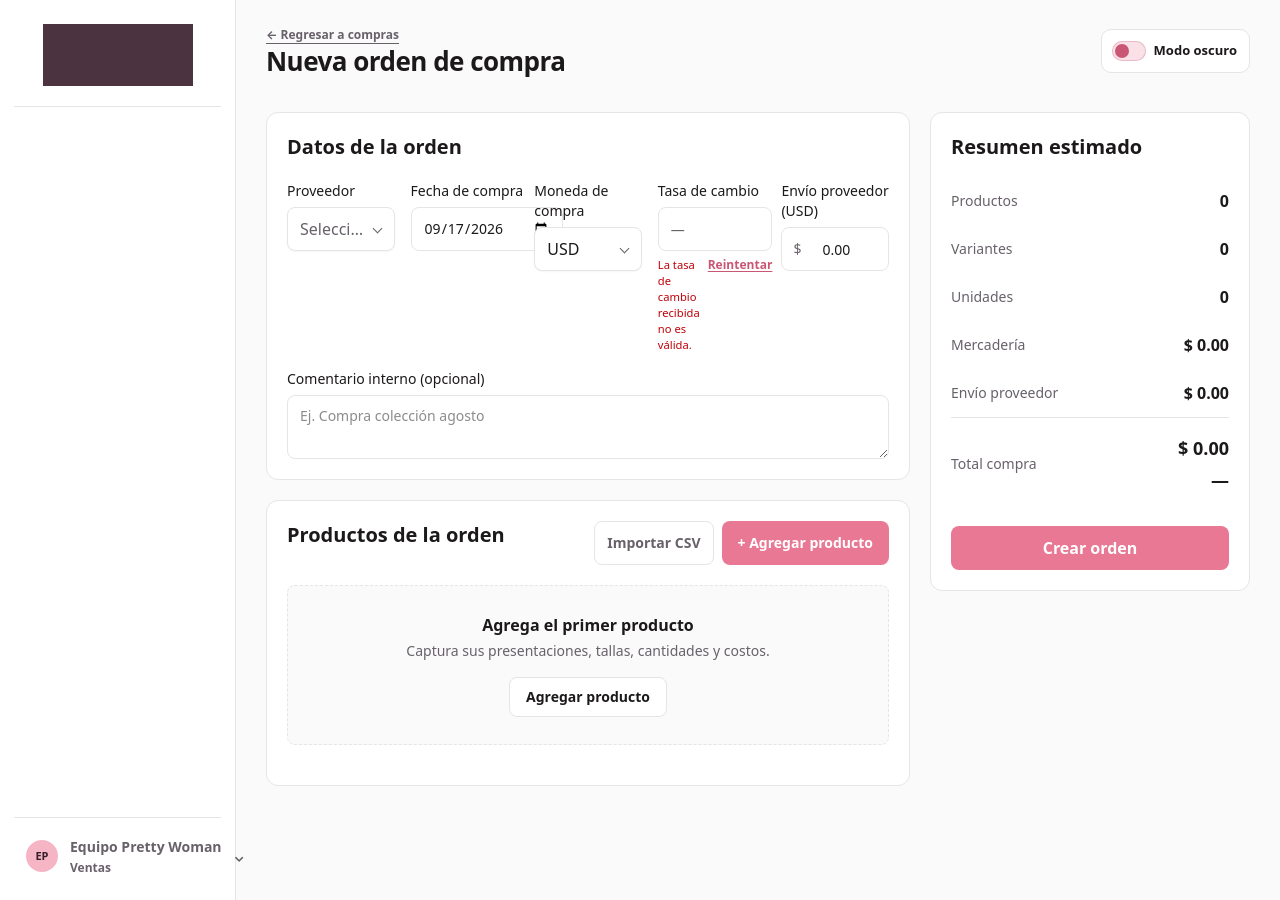
Test: PurchaseOrderCreatePage › opens the CSV importer in a modal with delimiter choices and a drop zone
The width and height of the screenshot is (1280, 900).
Expected: the text "Agrega el primer producto" is shown, [482,614,694,636]
Click the button "Importar CSV".
click(654, 543)  # box [594,521,714,565]
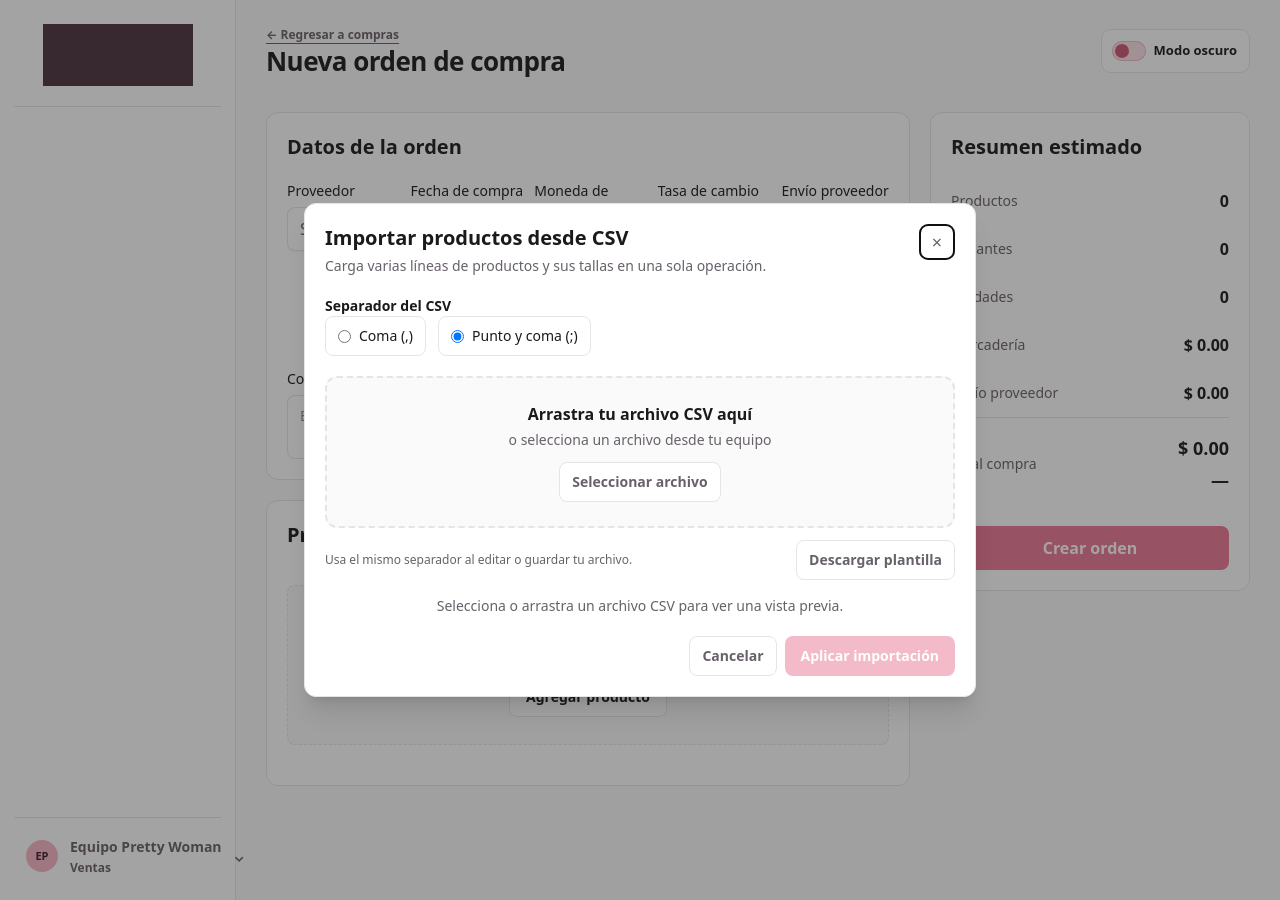
Expected: the radio button labelled "Punto y coma (;)" is checked, [451,330,464,342]
Expected: the radio button labelled "Coma (,)" is shown, [338,330,351,342]
Expected: the button with aria-label "Zona para soltar el archivo CSV" is shown, [325,376,955,528]
